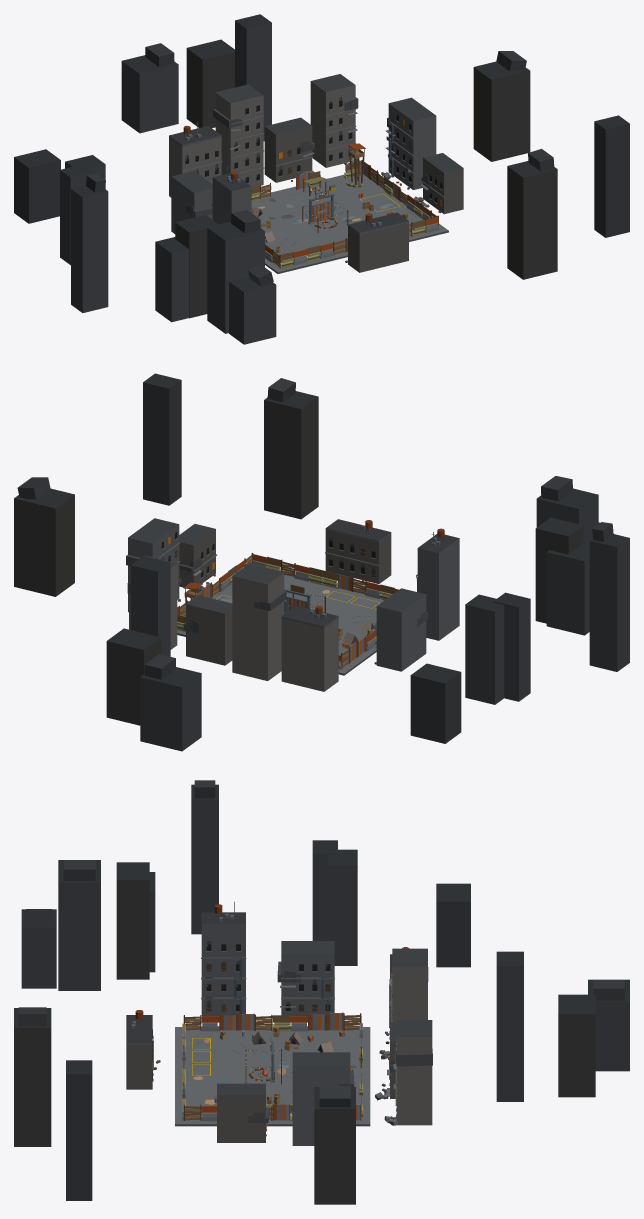
File: Lobby_All.obj
3 views of the same model, one above another, from view 1: azimuth 30°, elevation 25°; view 2: azimuth 150°, elevation 25°; view 3: azimuth 270°, elevation 25° (orthographic). The views are drawn at different scales.
Visible parts, largest first — view 1: Skyline, Buildings, Ground, Walls, Props, Tower; view 2: Skyline, Buildings, Walls, Ground; view 3: Skyline, Buildings, Ground, Walls, Props.
Part boxes in pixels (x1,y1,x2,y2): Skyline: [14, 14, 629, 344]; Buildings: [169, 74, 463, 272]; Ground: [251, 174, 448, 273]; Walls: [251, 160, 439, 268]; Props: [251, 175, 407, 253]; Tower: [348, 143, 365, 184]; Skyline: [14, 373, 629, 751]; Buildings: [126, 518, 459, 691]; Walls: [177, 553, 398, 669]; Ground: [177, 572, 384, 675]; Skyline: [14, 780, 629, 1204]; Buildings: [126, 901, 432, 1145]; Ground: [175, 1027, 370, 1126]; Walls: [182, 1012, 363, 1121]; Props: [214, 1026, 352, 1104].
Bounding box in the file's own units: 304 × 75.69 × 278.
